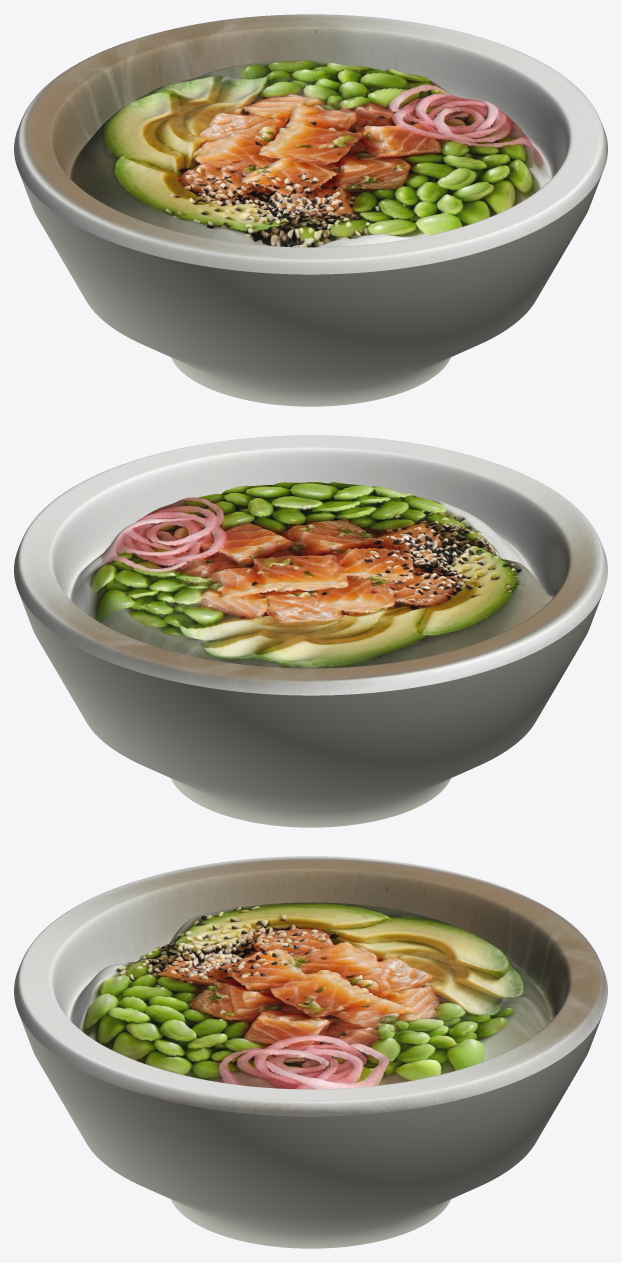
Rendered from poke-de-salmao.glb.
The picture shows the model from 3 angles, top to bottom: view 1: azimuth 30°, elevation 25°; view 2: azimuth 150°, elevation 25°; view 3: azimuth 270°, elevation 25°; orthographic projection.
Visible parts, largest first — view 1: poke-de-salmao; view 2: poke-de-salmao; view 3: poke-de-salmao.
Part boxes in pixels (bbox=[...]): poke-de-salmao: bbox=[14, 14, 607, 406]; poke-de-salmao: bbox=[14, 435, 607, 827]; poke-de-salmao: bbox=[14, 856, 607, 1248].
Bounding box in the file's own units: 0.18 × 0.07 × 0.18.
2 materials, 1 textured.
